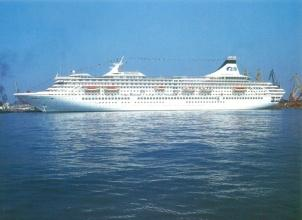youlun: (19, 51, 280, 112)
